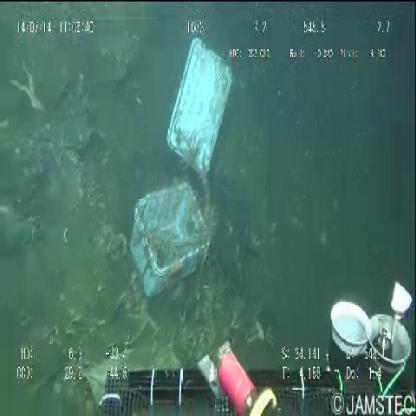Rov: (89, 274, 416, 416)
Rác: (123, 29, 237, 304)
